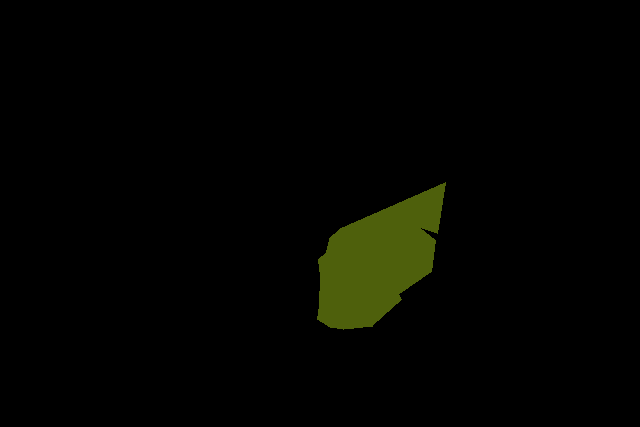Train: (317, 182, 445, 329)
